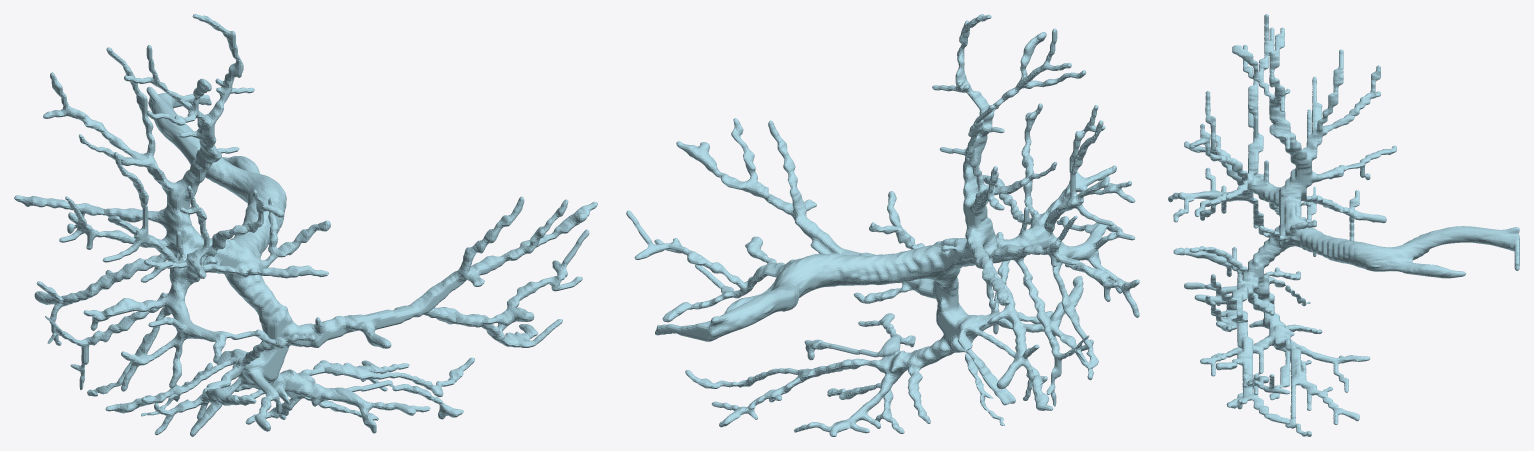
The model's file is portalvein.obj.
3 renders of one model, left to right at view 1: azimuth 30°, elevation 25°; view 2: azimuth 150°, elevation 25°; view 3: azimuth 270°, elevation 25°, orthographic. The views are drawn at different scales.
Parts seen in each view (by area): view 1: grp1; view 2: grp1; view 3: grp1.
Boxes of the visible parts, x1,y1,x2,y2 form: grp1: [14, 14, 597, 436]; grp1: [626, 14, 1139, 436]; grp1: [1168, 14, 1519, 436].
Bounding box in the file's own units: 196 × 163 × 165.
